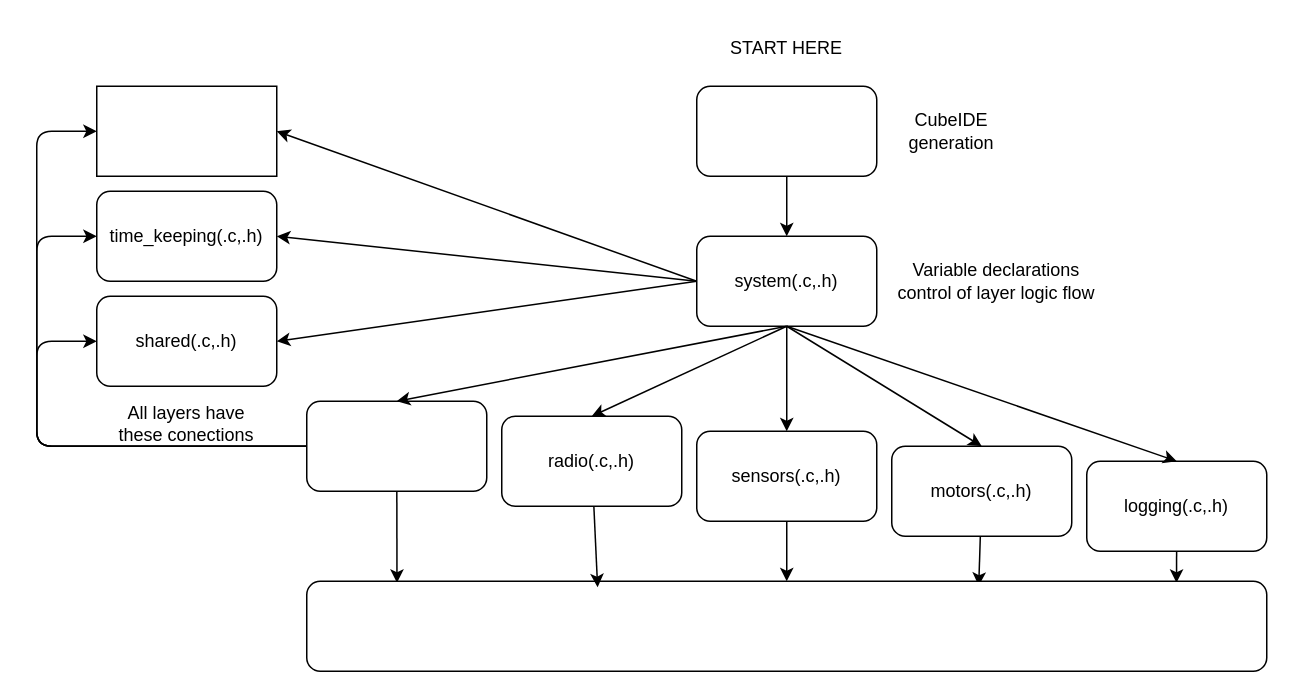
This 1293x698 diagram has some shape labels left out. Each missing label, with the box of its shape:
common.h: (95, 85, 277, 176)
Drivers: (305, 580, 1267, 671)
main.c: (695, 85, 877, 176)
startup (.c,.h): (305, 400, 487, 491)
